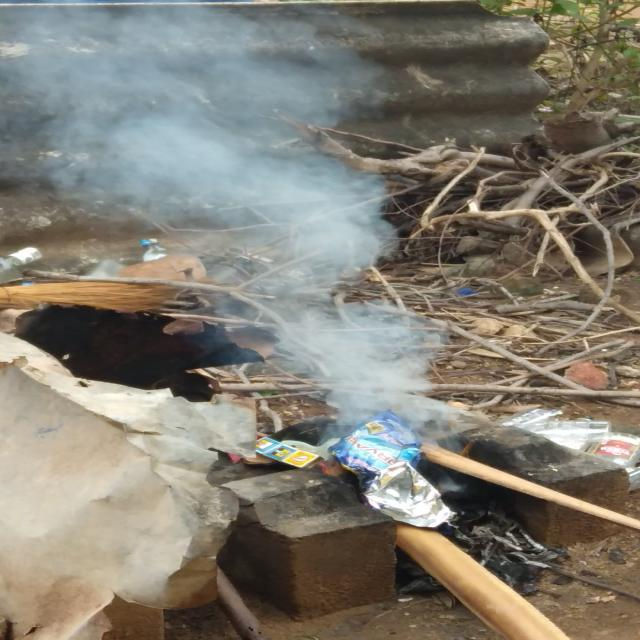Smoke: (12, 6, 450, 428)
